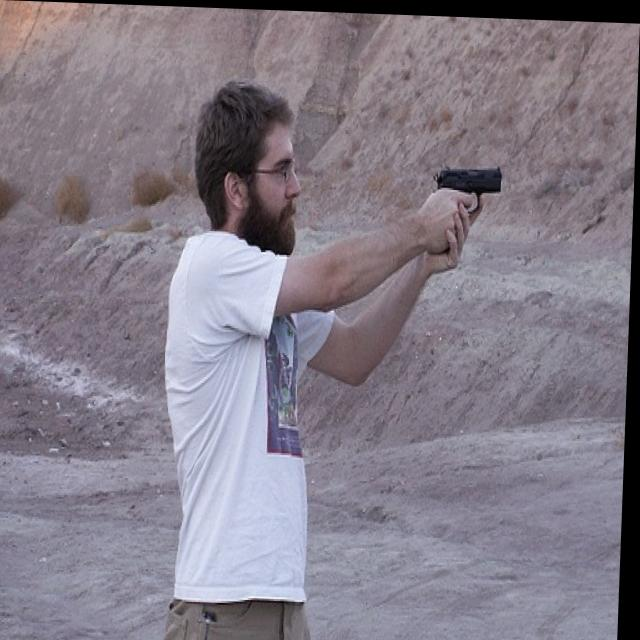handgun: (431, 161, 504, 213)
